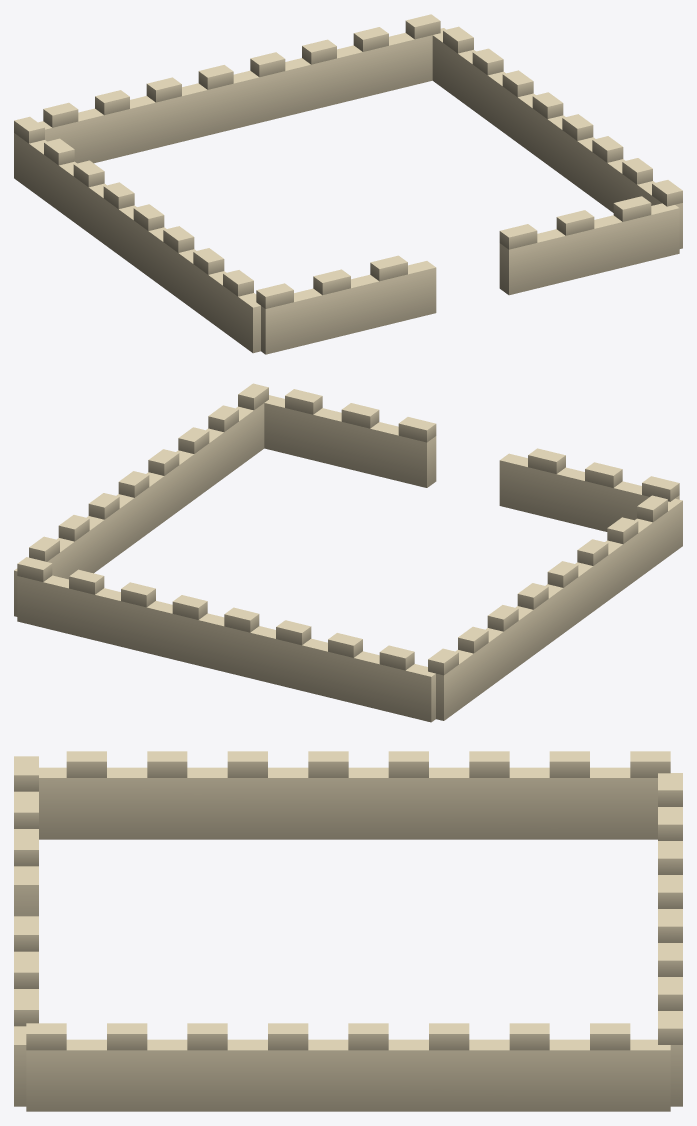
Rendered from wall_ME_1.glb.
The picture shows the model from 3 angles, top to bottom: view 1: azimuth 30°, elevation 25°; view 2: azimuth 150°, elevation 25°; view 3: azimuth 270°, elevation 25°; orthographic projection. The views are drawn at different scales.
Parts seen in each view (by area): view 1: Body; view 2: Body; view 3: Body.
Boxes of the visible parts, left/top/right/bottom form: Body: left=14, top=14, right=682, bottom=354; Body: left=14, top=383, right=682, bottom=722; Body: left=14, top=751, right=682, bottom=1111.
Bounding box in the file's own units: 5.92 × 0.76 × 5.92.
1 material, 1 textured.
